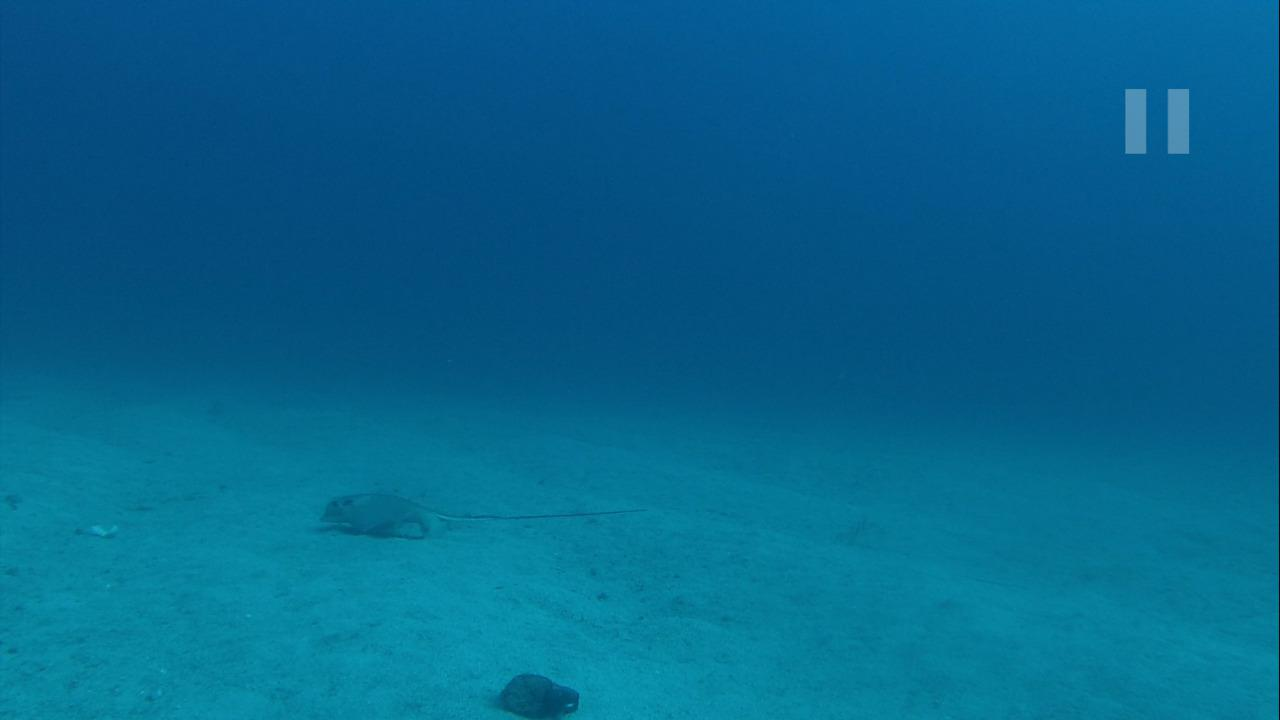myliobatis: (304, 482, 664, 548)
